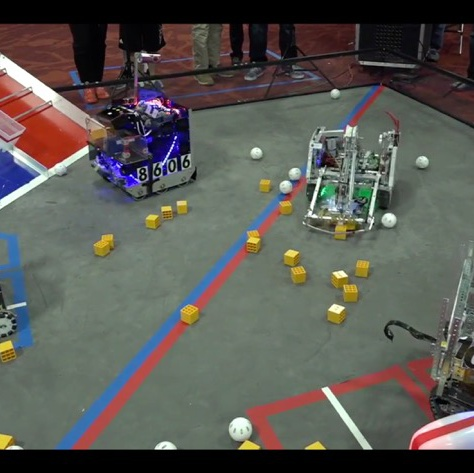robot: (383, 223, 474, 422), (82, 50, 201, 201), (300, 112, 404, 240)
